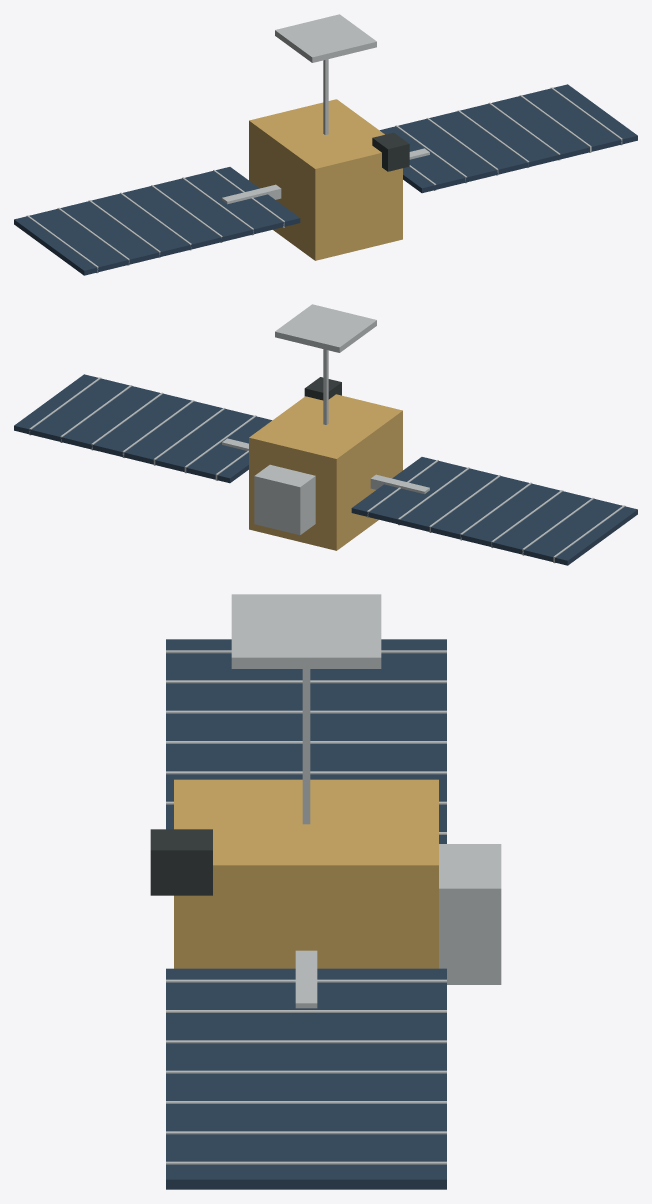
The model's file is orbit-surveyor.glb.
3 renders of one model, top to bottom at view 1: azimuth 30°, elevation 25°; view 2: azimuth 150°, elevation 25°; view 3: azimuth 270°, elevation 25°, orthographic. The views are drawn at different scales.
Parts seen in each view (by area): view 1: Solar array (×2), Gold instrument bus, Communications antenna, Star tracker, Array boom, Antenna boom; view 2: Solar array (×2), Gold instrument bus, Thruster module, Communications antenna, Star tracker, Array boom, Antenna boom; view 3: Solar array (×2), Gold instrument bus, Cell division (×11), Communications antenna, Thruster module, Star tracker, Antenna boom, Array boom.
Boxes of the visible parts, box(x1,y1,x2,y2) form: Solar array (×2): box(14, 84, 637, 275); Gold instrument bus: box(249, 99, 402, 260); Communications antenna: box(275, 14, 376, 62); Star tracker: box(372, 132, 409, 171); Array boom: box(222, 184, 281, 204); Antenna boom: box(323, 59, 328, 134); Solar array (×2): box(14, 374, 637, 565); Gold instrument bus: box(249, 394, 402, 550); Thruster module: box(254, 464, 315, 535); Communications antenna: box(275, 304, 376, 352); Star tracker: box(304, 377, 341, 400); Array boom: box(370, 474, 429, 494); Antenna boom: box(323, 349, 328, 424); Solar array (×2): box(166, 639, 446, 1189); Gold instrument bus: box(174, 779, 438, 968); Cell division (×11): box(166, 680, 446, 1164); Communications antenna: box(231, 594, 381, 668); Thruster module: box(439, 844, 501, 984); Star tracker: box(150, 829, 212, 895); Antenna boom: box(302, 669, 310, 824); Array boom: box(295, 950, 317, 1008).
Bounding box in the file's own units: 4.1 × 1.34 × 1.13.
